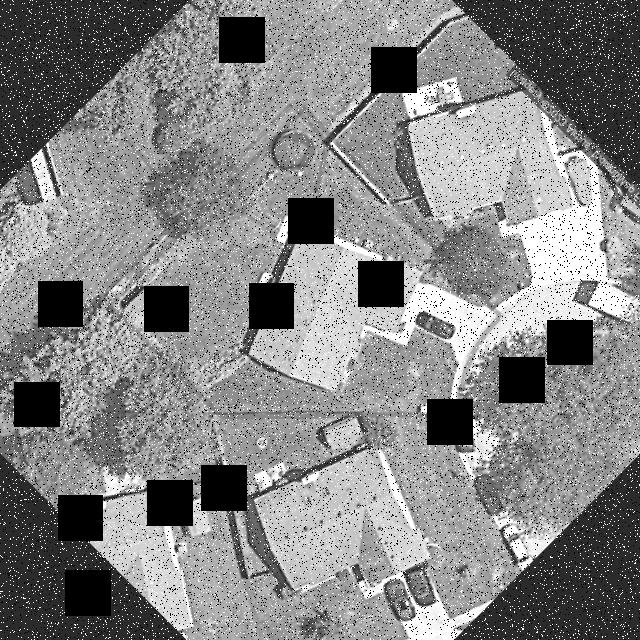Driveway: (401, 282, 496, 363)
House: (246, 224, 419, 388)
Other: (119, 284, 166, 331), (271, 128, 316, 170), (275, 214, 302, 248), (252, 269, 274, 297), (361, 237, 373, 248), (419, 404, 430, 411)
Sidewalk: (360, 321, 414, 343), (449, 361, 465, 410)
